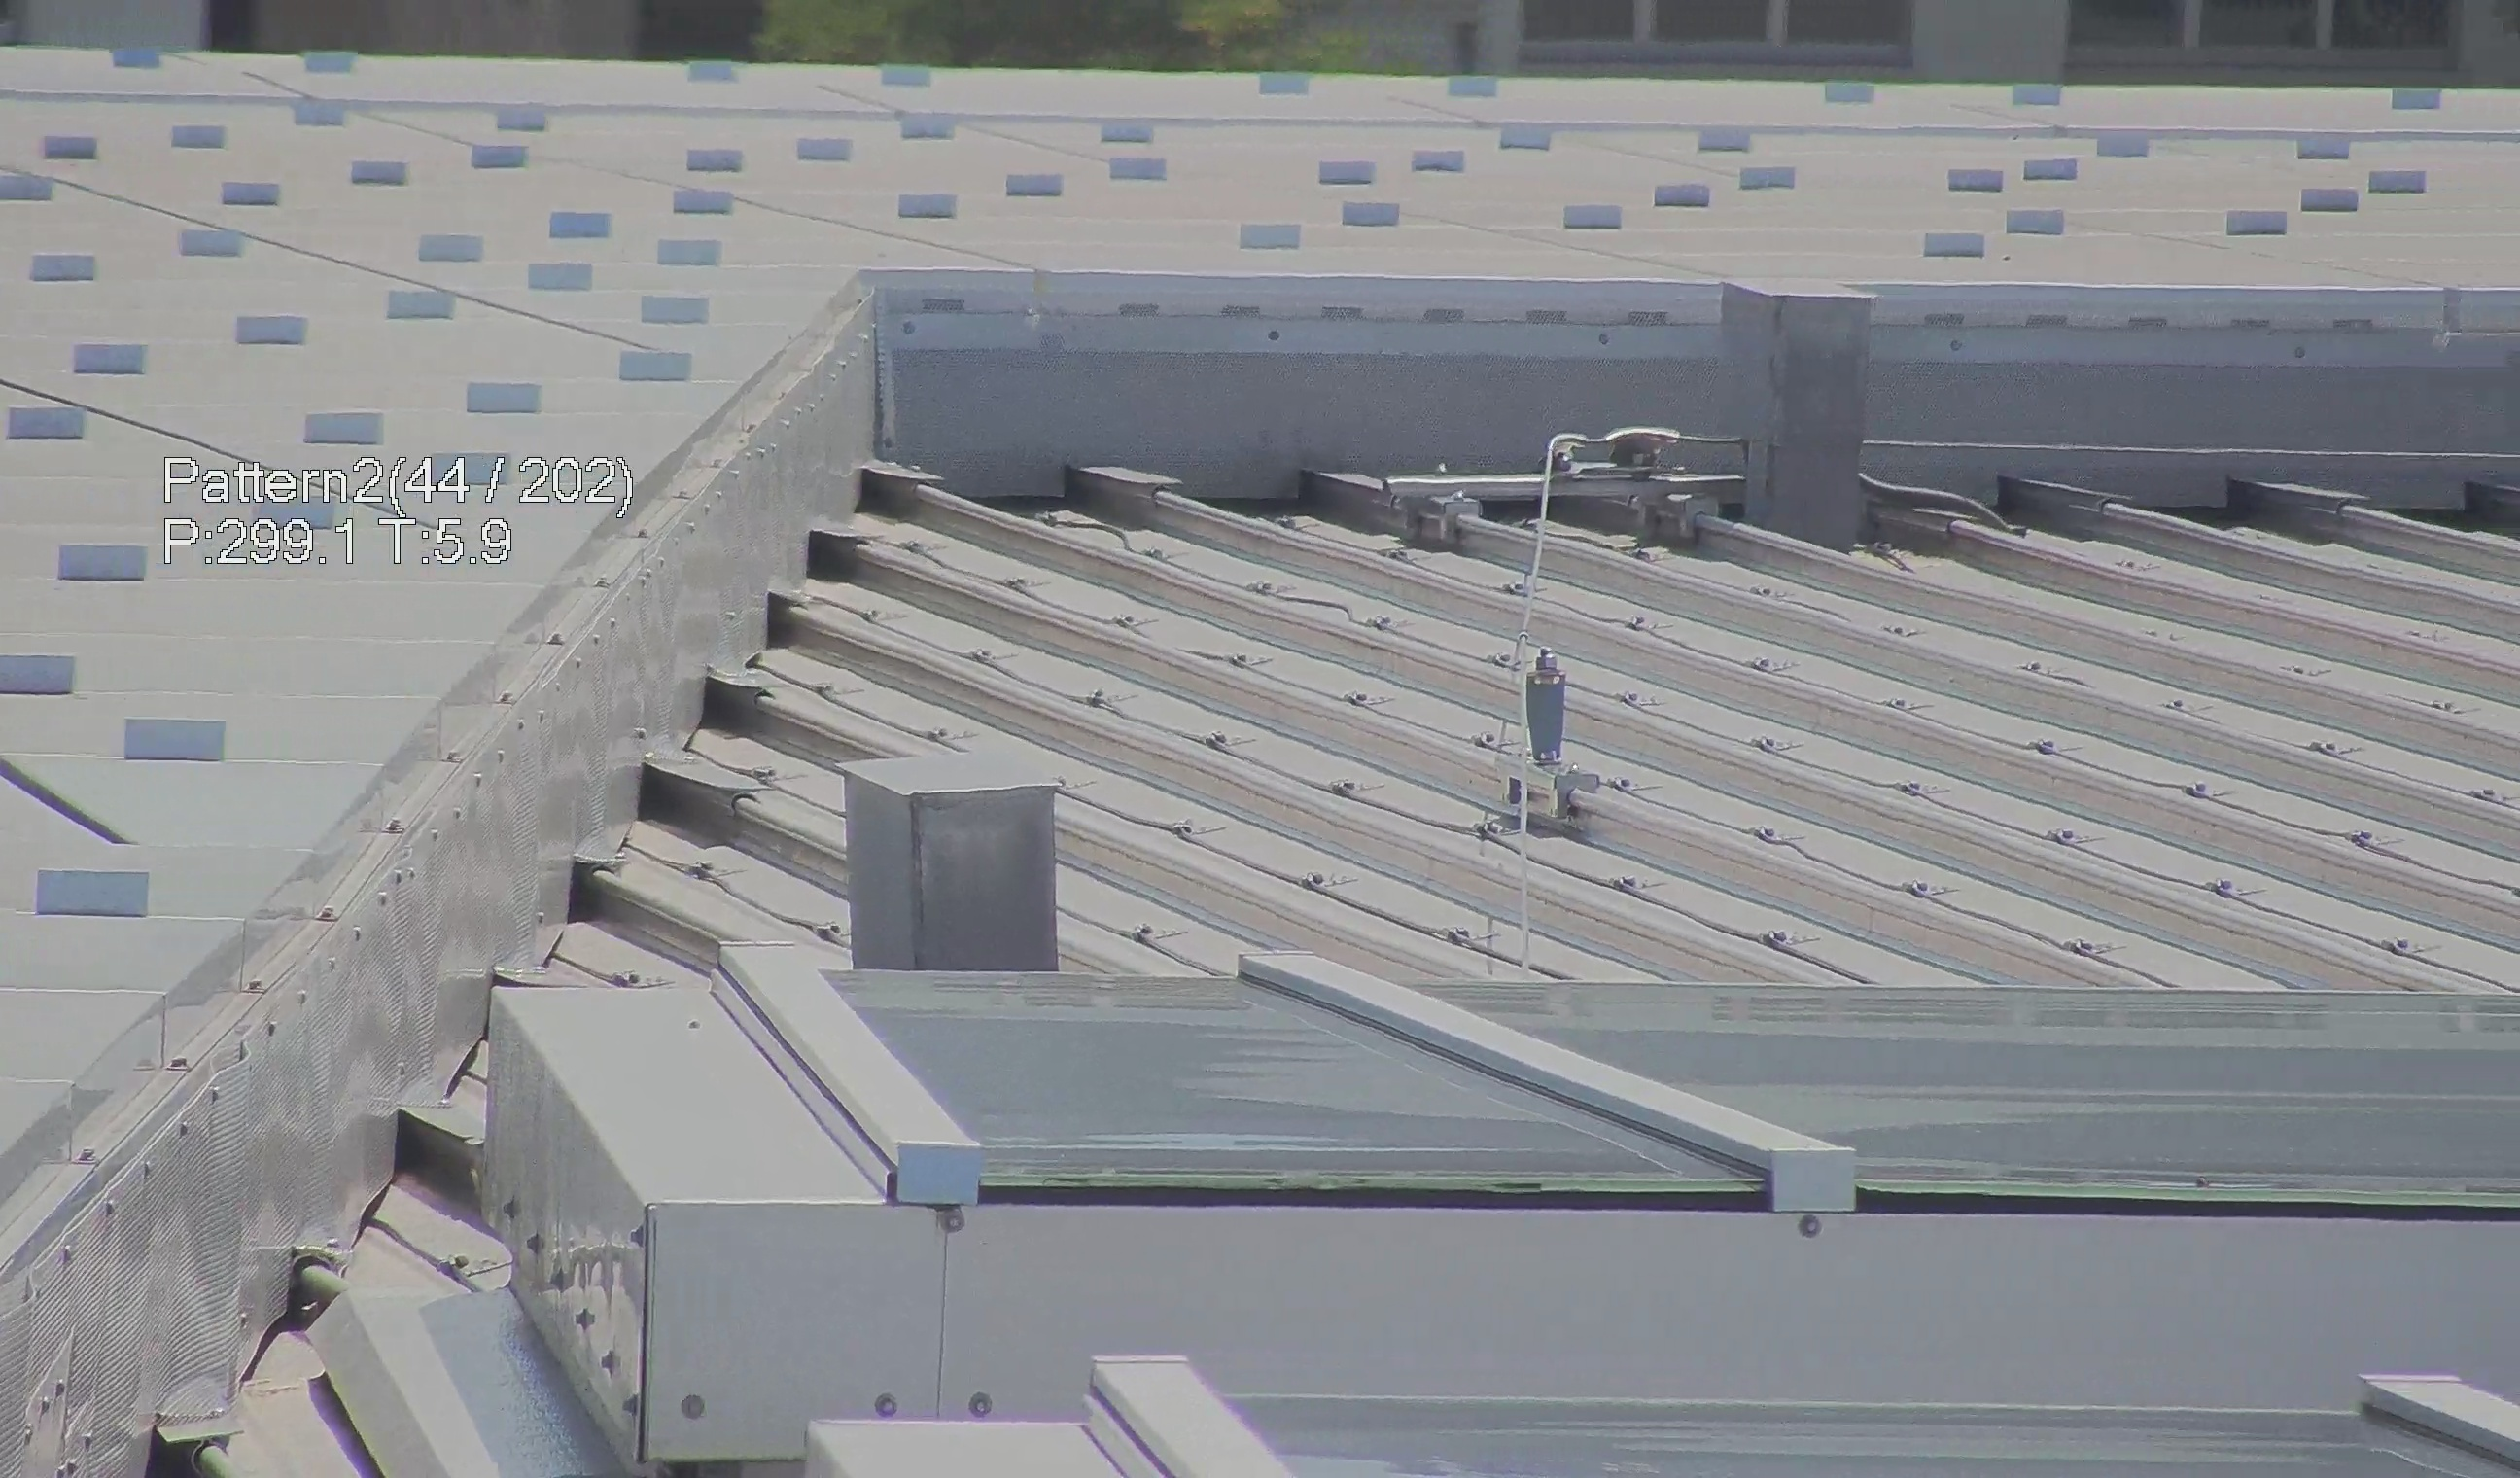Other: (229, 1233, 362, 1415)
